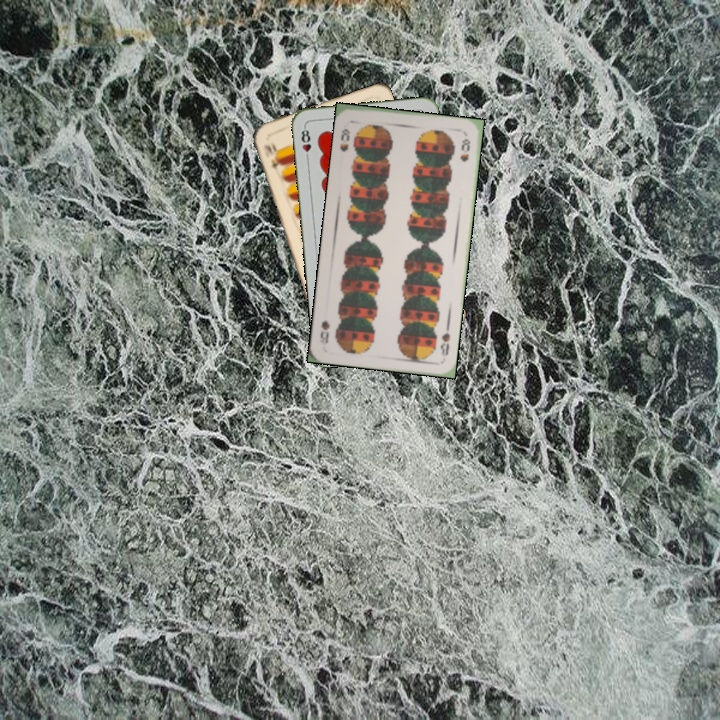E10: (260, 141, 284, 173)
H8: (297, 123, 314, 163)
S8: (436, 320, 453, 359), (336, 125, 352, 154)
